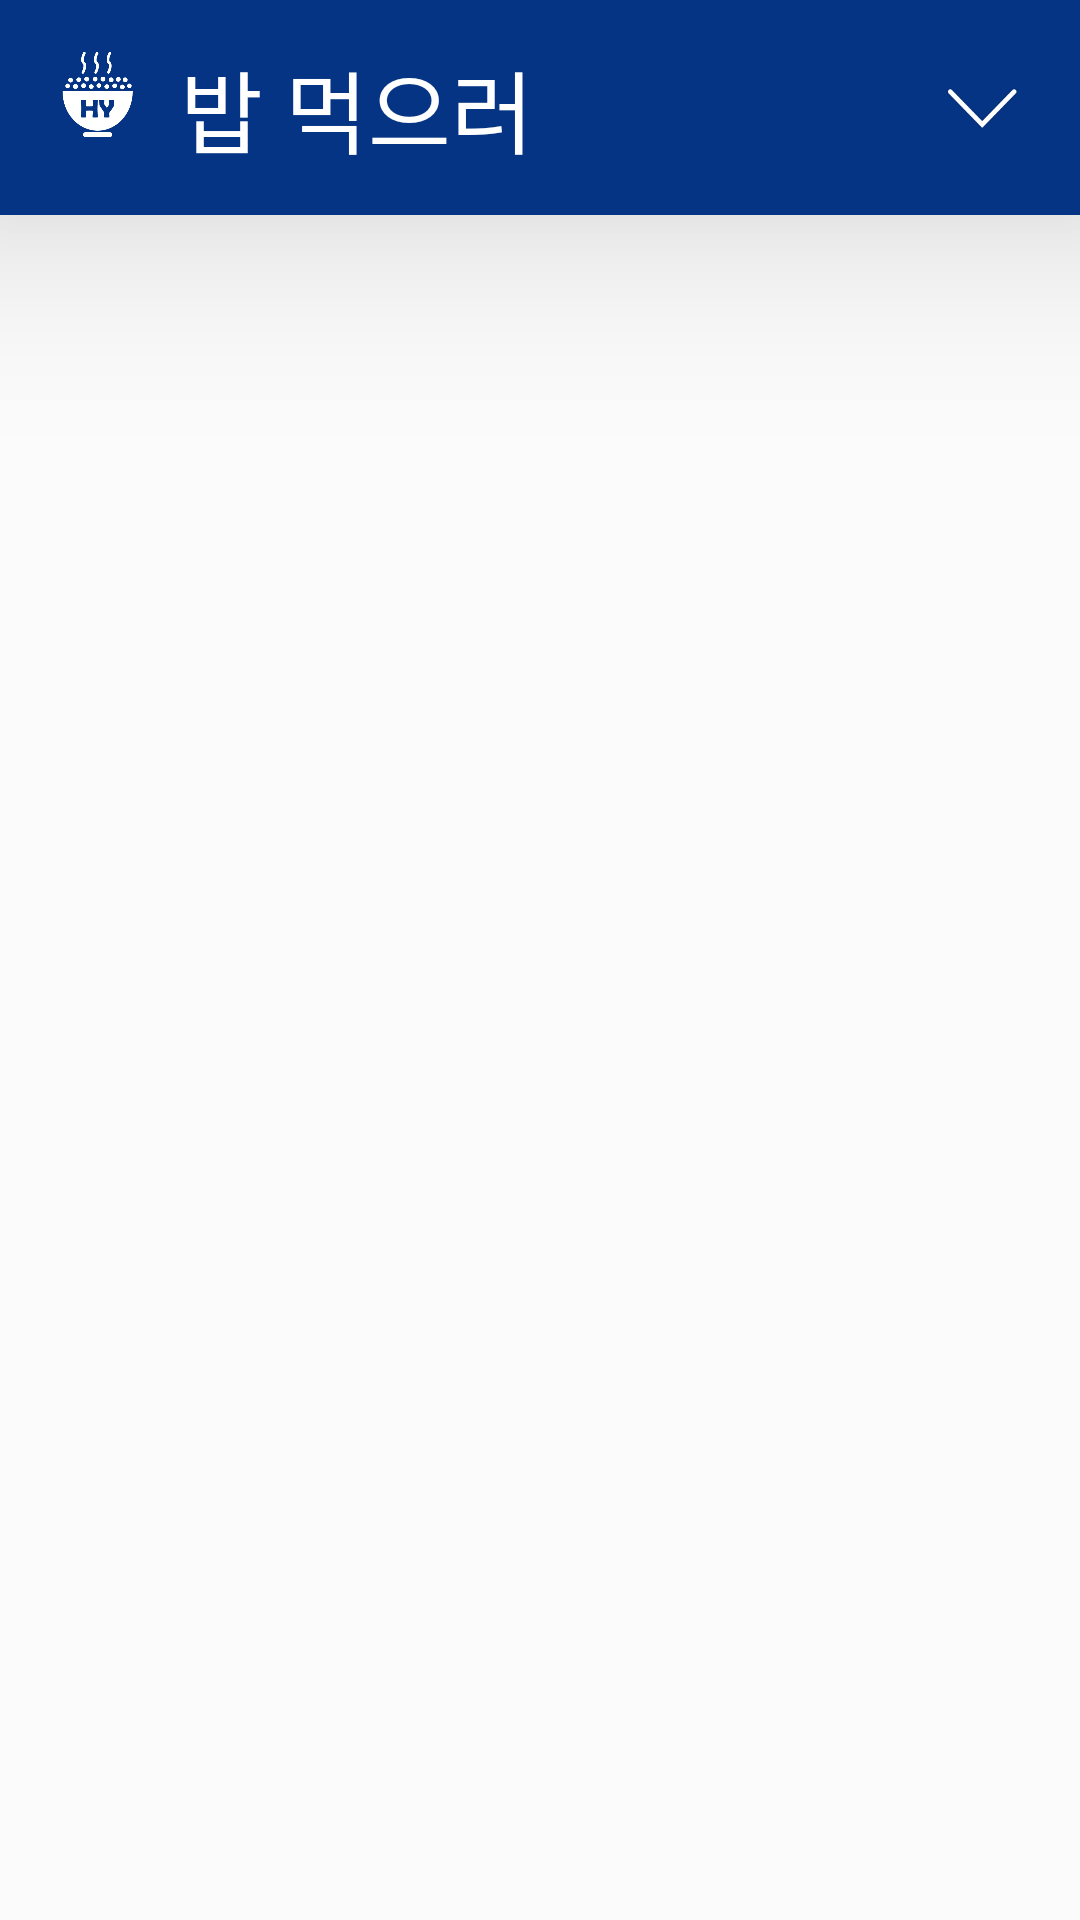

Where to tap for icons on this 1080 × 1920 app screen, as point (x, y):
down: point (982, 108)
